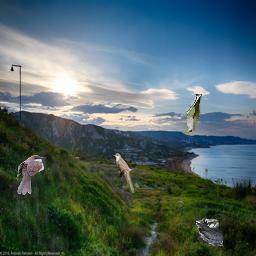Crow: (196, 218, 223, 246)
Cuckoo: (16, 155, 46, 195), (113, 153, 134, 193), (184, 94, 202, 134)
